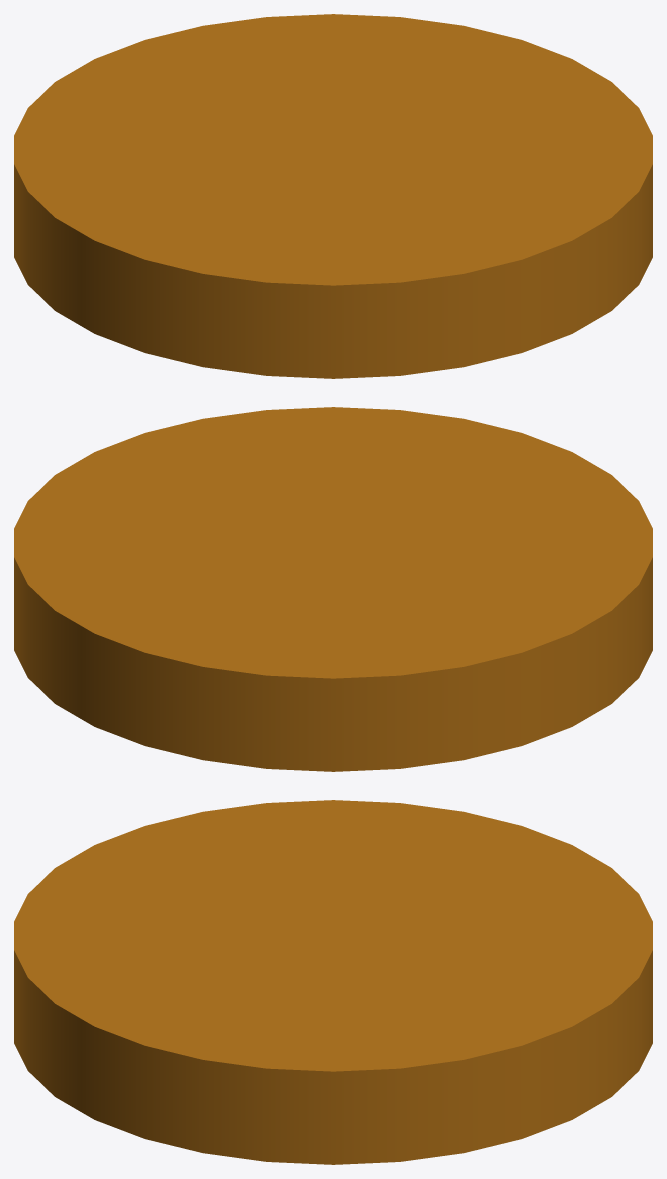
Rendered from Bumper_A_Middle.fbx.
3 renders of one model, top to bottom at view 1: azimuth 30°, elevation 25°; view 2: azimuth 150°, elevation 25°; view 3: azimuth 270°, elevation 25°, orthographic.
Visible parts, largest first — view 1: Bumper_A_Middle; view 2: Bumper_A_Middle; view 3: Bumper_A_Middle.
Boxes of the visible parts, x1=… form: Bumper_A_Middle: x1=14, y1=14, x2=652, y2=378; Bumper_A_Middle: x1=14, y1=407, x2=652, y2=771; Bumper_A_Middle: x1=14, y1=800, x2=652, y2=1164.
Bounding box in the file's own units: 4.64 × 0.7434 × 4.61.
